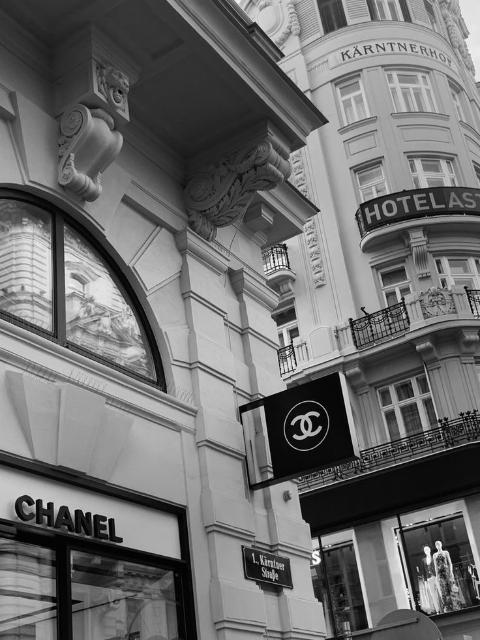Chanel: (5, 488, 134, 547), (284, 400, 330, 451)
